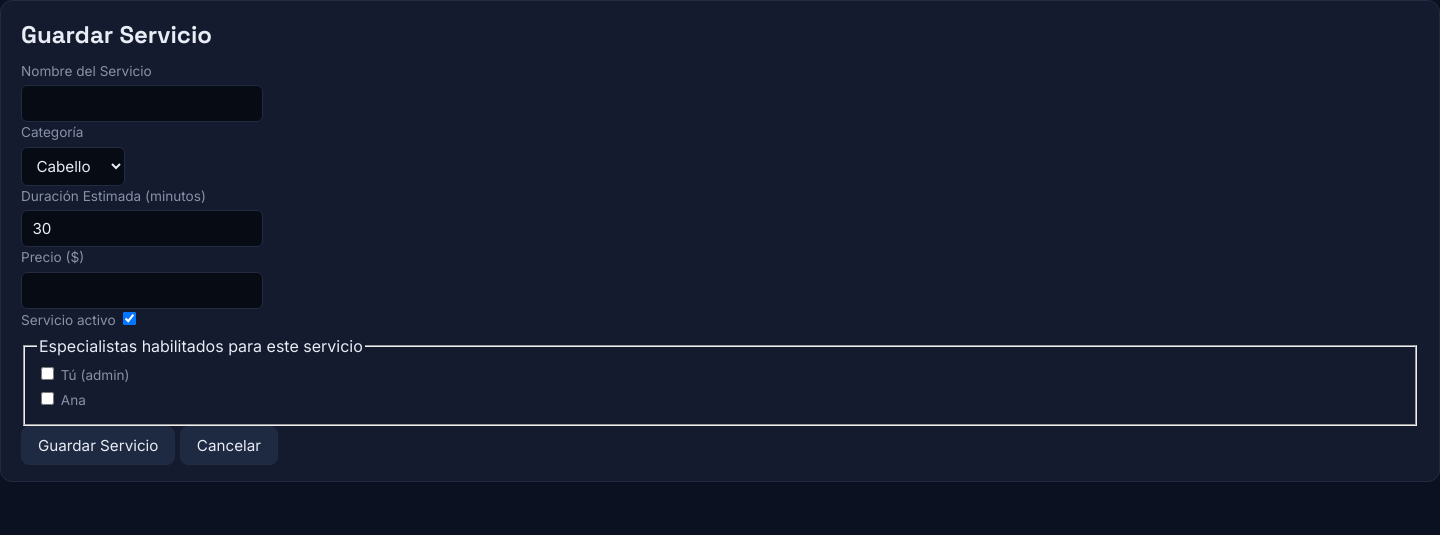
it: ServiceForm › si falla el guardado, muestra el error traducido y no avisa al padre
Type "Corte" into the field labelled "Nombre del Servicio" at (142, 104), box x1=21 y1=85 x2=263 y2=122
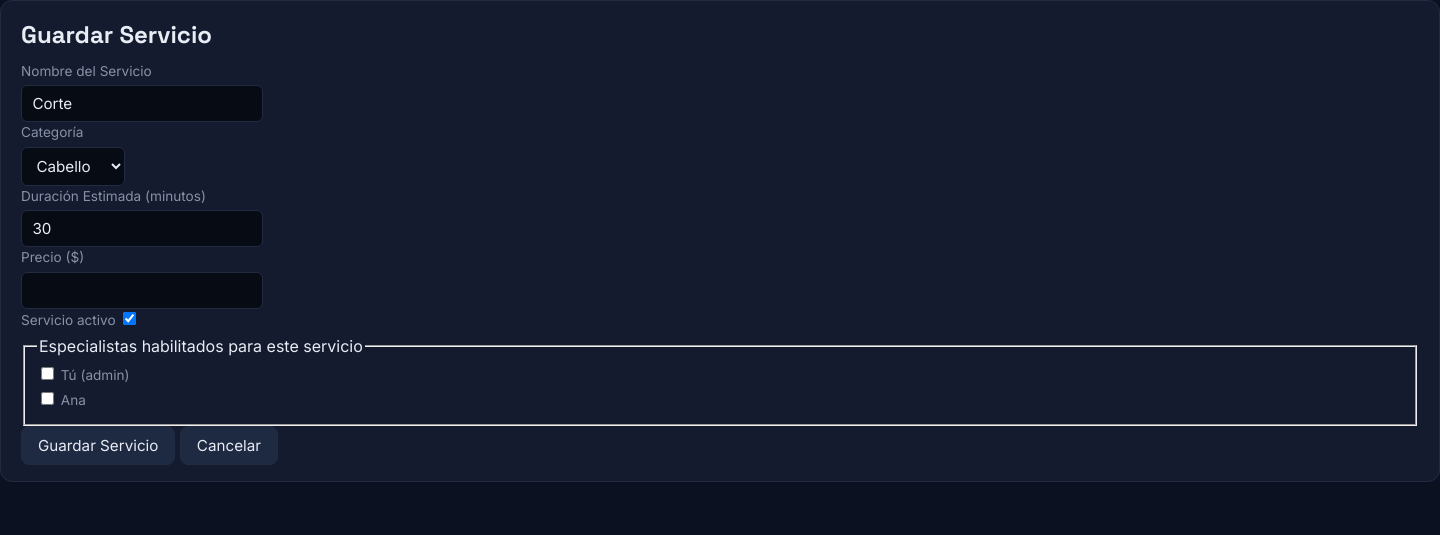
Type "15" into the number field labelled "Precio ($)" at (142, 290), box x1=21 y1=272 x2=263 y2=309
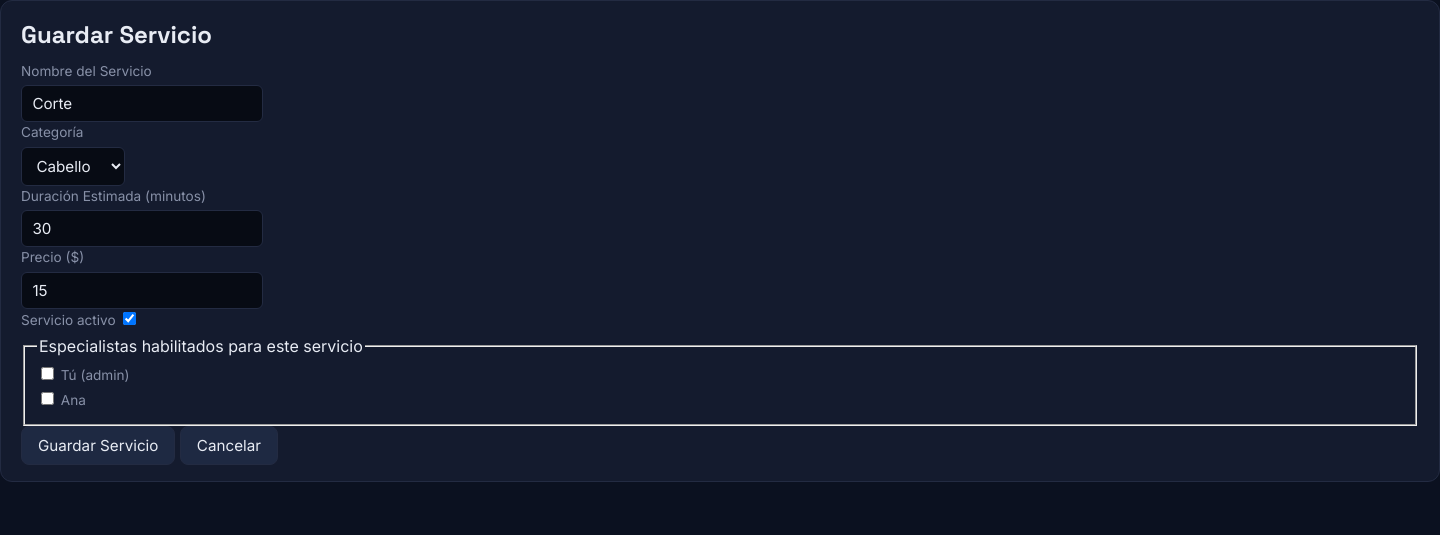
Click the button "Guardar Servicio" at (98, 446), box x1=21 y1=426 x2=175 y2=465
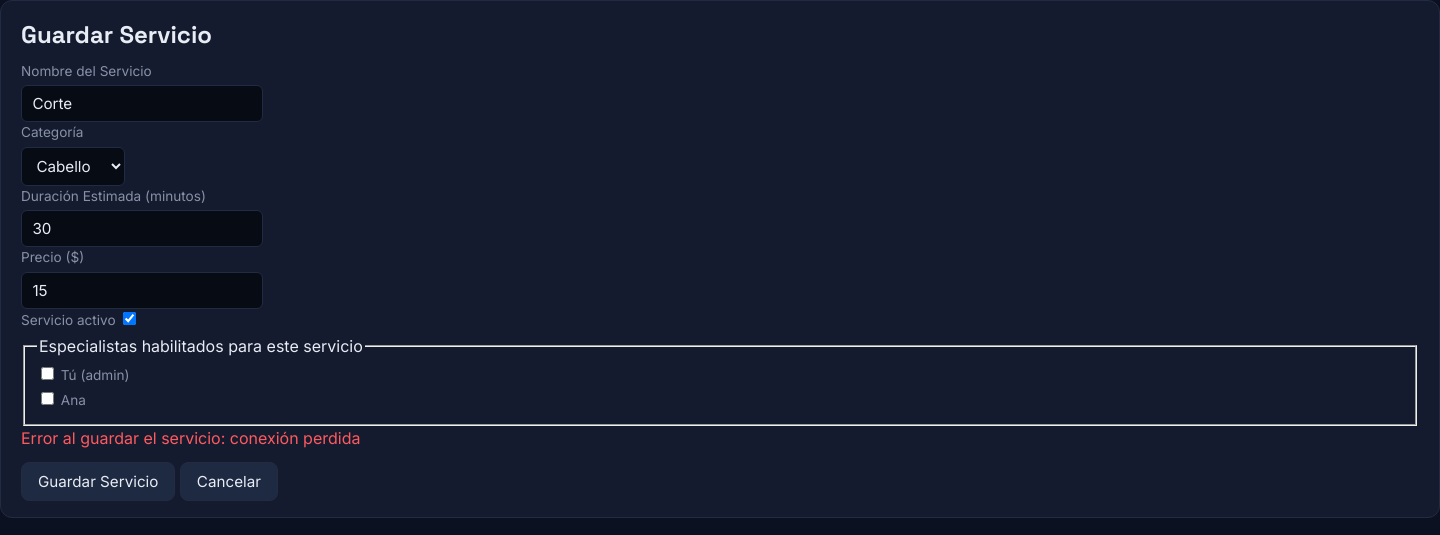
Check: the message reads "Error al guardar el servicio: conexión perdida", box x1=21 y1=428 x2=360 y2=448
